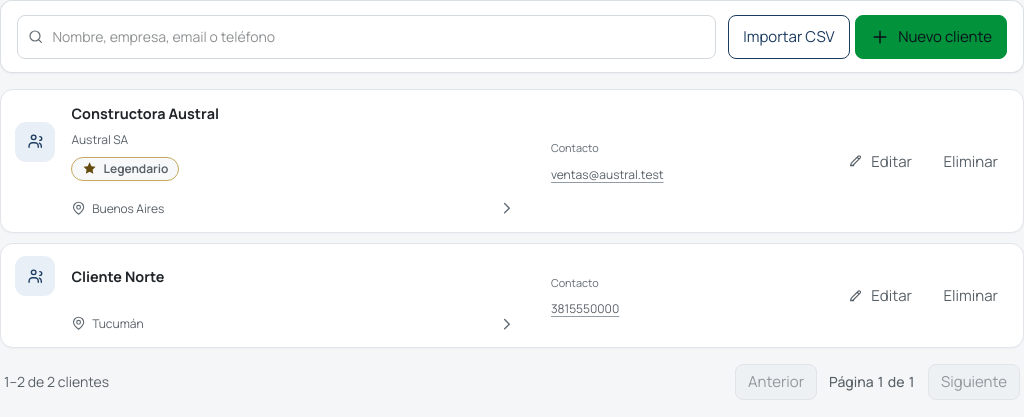
Scenario: CustomersPage › debounces API search and shows a useful no-results state
Expected: the link "Constructora Austral" is shown, [1,90,541,232]
Step 1. Type "inexistente" into the search field named "Buscar clientes" → (367,37), box [17,15,716,59]
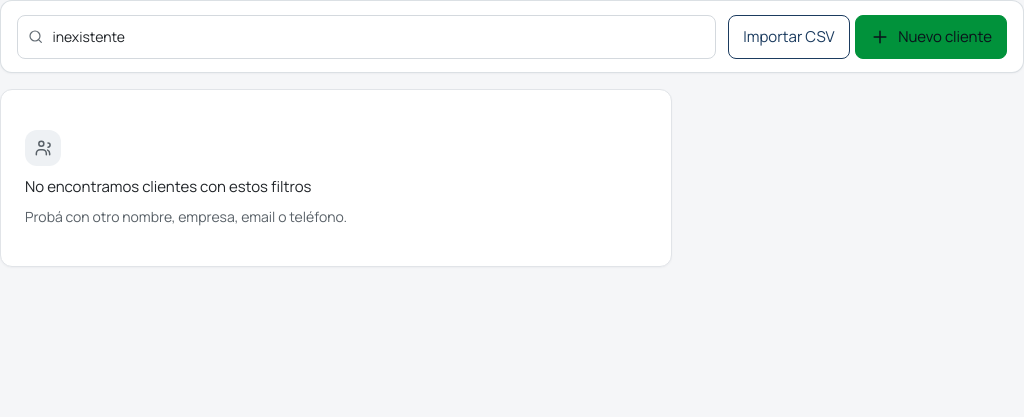
Expected: the heading "No encontramos clientes con estos filtros" is shown, [25,175,312,198]
Expected: the text "Probá con otro nombre, empresa, email o teléfono." is shown, [25,207,347,226]
